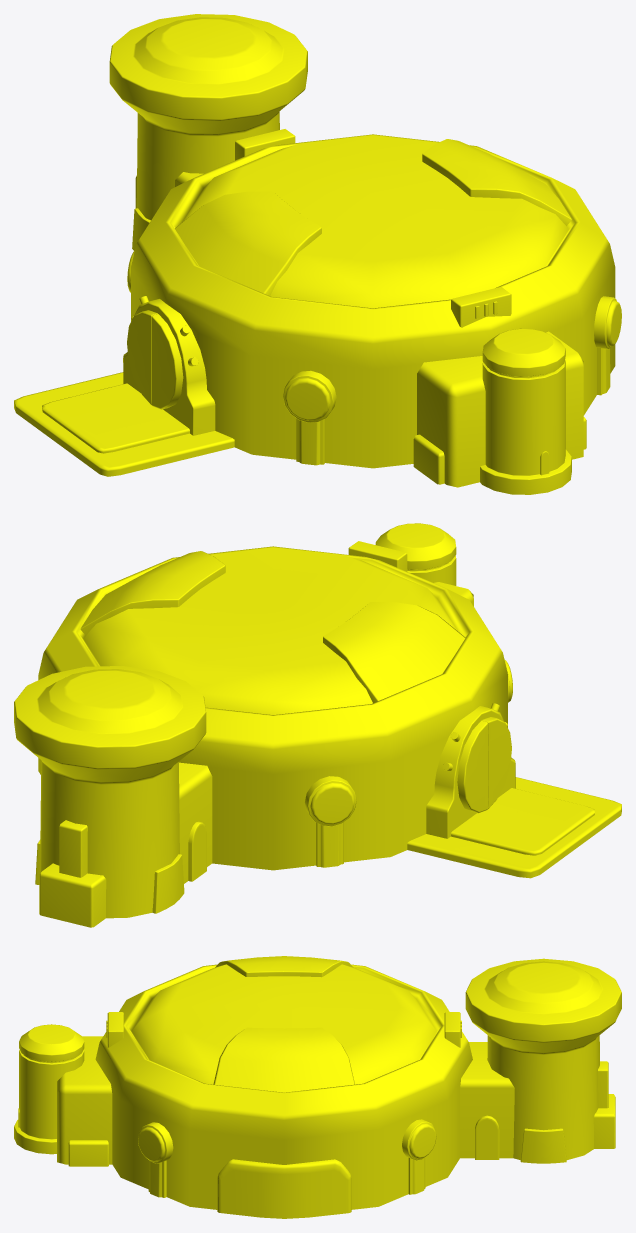
File: main_house_2lv.glb
3 renders of one model, top to bottom at view 1: azimuth 30°, elevation 25°; view 2: azimuth 150°, elevation 25°; view 3: azimuth 270°, elevation 25°, orthographic. The views are drawn at different scales.
Parts seen in each view (by area): view 1: Main_house_2lv; view 2: Main_house_2lv; view 3: Main_house_2lv.
Boxes of the visible parts, bbox=[...] form: Main_house_2lv: bbox=[14, 14, 621, 494]; Main_house_2lv: bbox=[14, 523, 621, 927]; Main_house_2lv: bbox=[14, 956, 621, 1218].
Size of the model in its own units: 13.85 by 5.14 by 17.66.
Materials: 1 (1 with a texture image).
